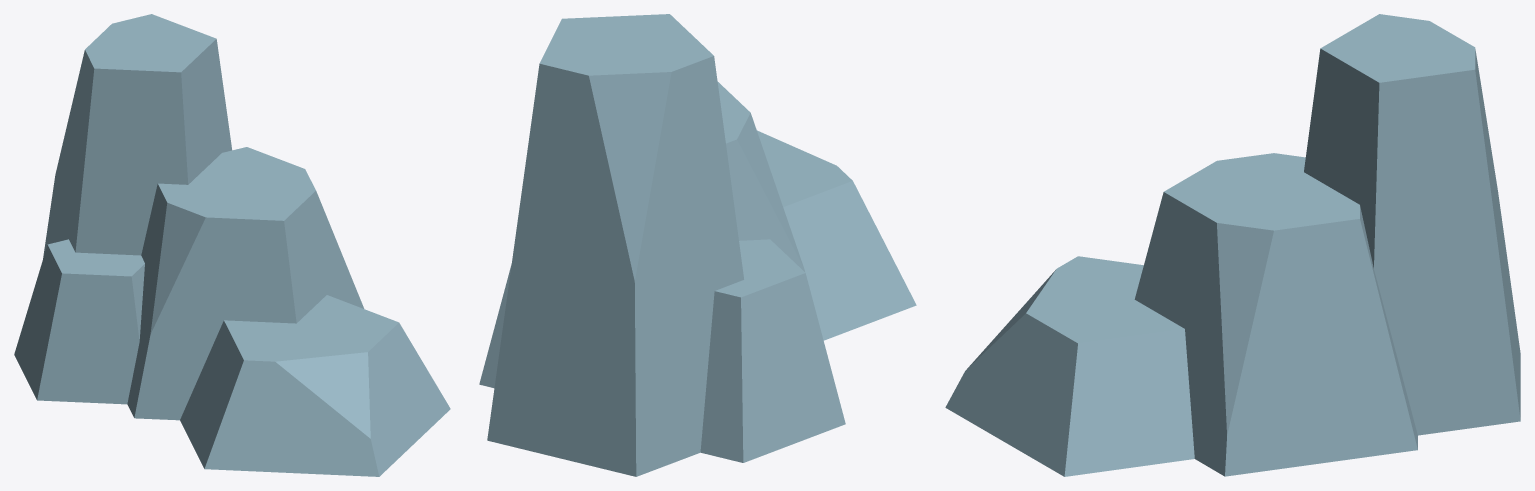
The model's file is rockWide.obj.
3 views of the same model, side by side, from view 1: azimuth 30°, elevation 25°; view 2: azimuth 150°, elevation 25°; view 3: azimuth 270°, elevation 25° (orthographic). The views are drawn at different scales.
Visible parts, largest first — view 1: rockWide; view 2: rockWide; view 3: rockWide.
Boxes of the visible parts, <box> form: rockWide: <box>14,14,450,476</box>; rockWide: <box>479,14,916,476</box>; rockWide: <box>945,14,1520,476</box>.
Size of the model in its own units: 1.09 by 1.02 by 1.57.
